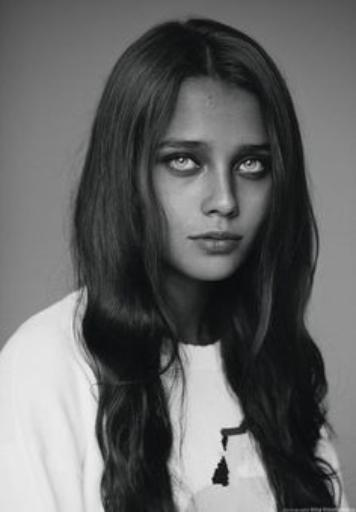left_eye: (236, 157, 270, 178)
left_lip_corner: (235, 231, 249, 247)
right_eye: (162, 153, 203, 177)
right_lip_corner: (188, 230, 204, 251)
